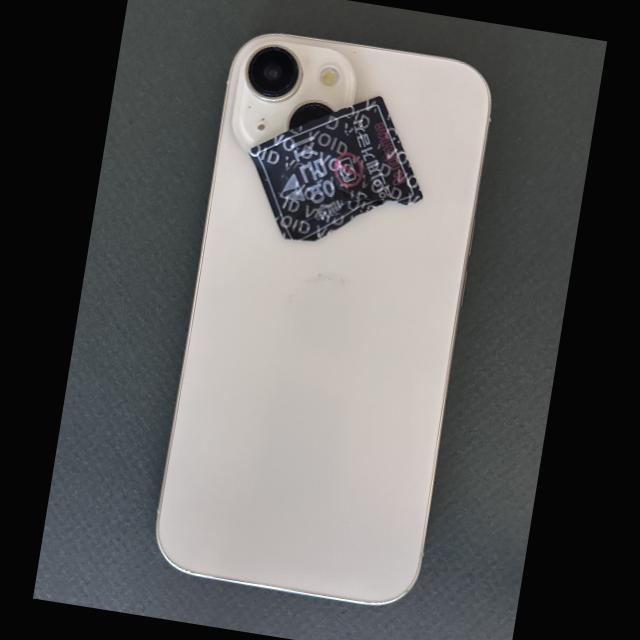lens: (245, 45, 303, 102), (287, 100, 336, 132)
phone: (155, 33, 492, 606)
sticker: (247, 96, 423, 242)
